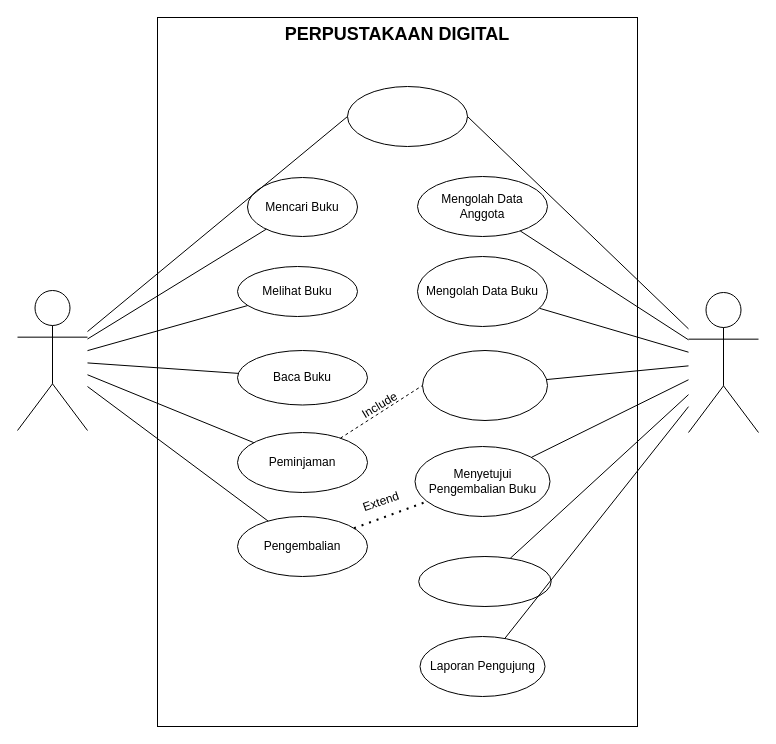
This 776x744 diagram has some shape labels left out. Each missing label, with the box of its shape:
Anggota: (16, 290, 88, 430)
Laporan Peminjaman: (418, 556, 551, 606)
Login: (346, 86, 468, 146)
Menyetujui/Menolak: (422, 350, 548, 420)
Pustakawan: (688, 292, 758, 432)
